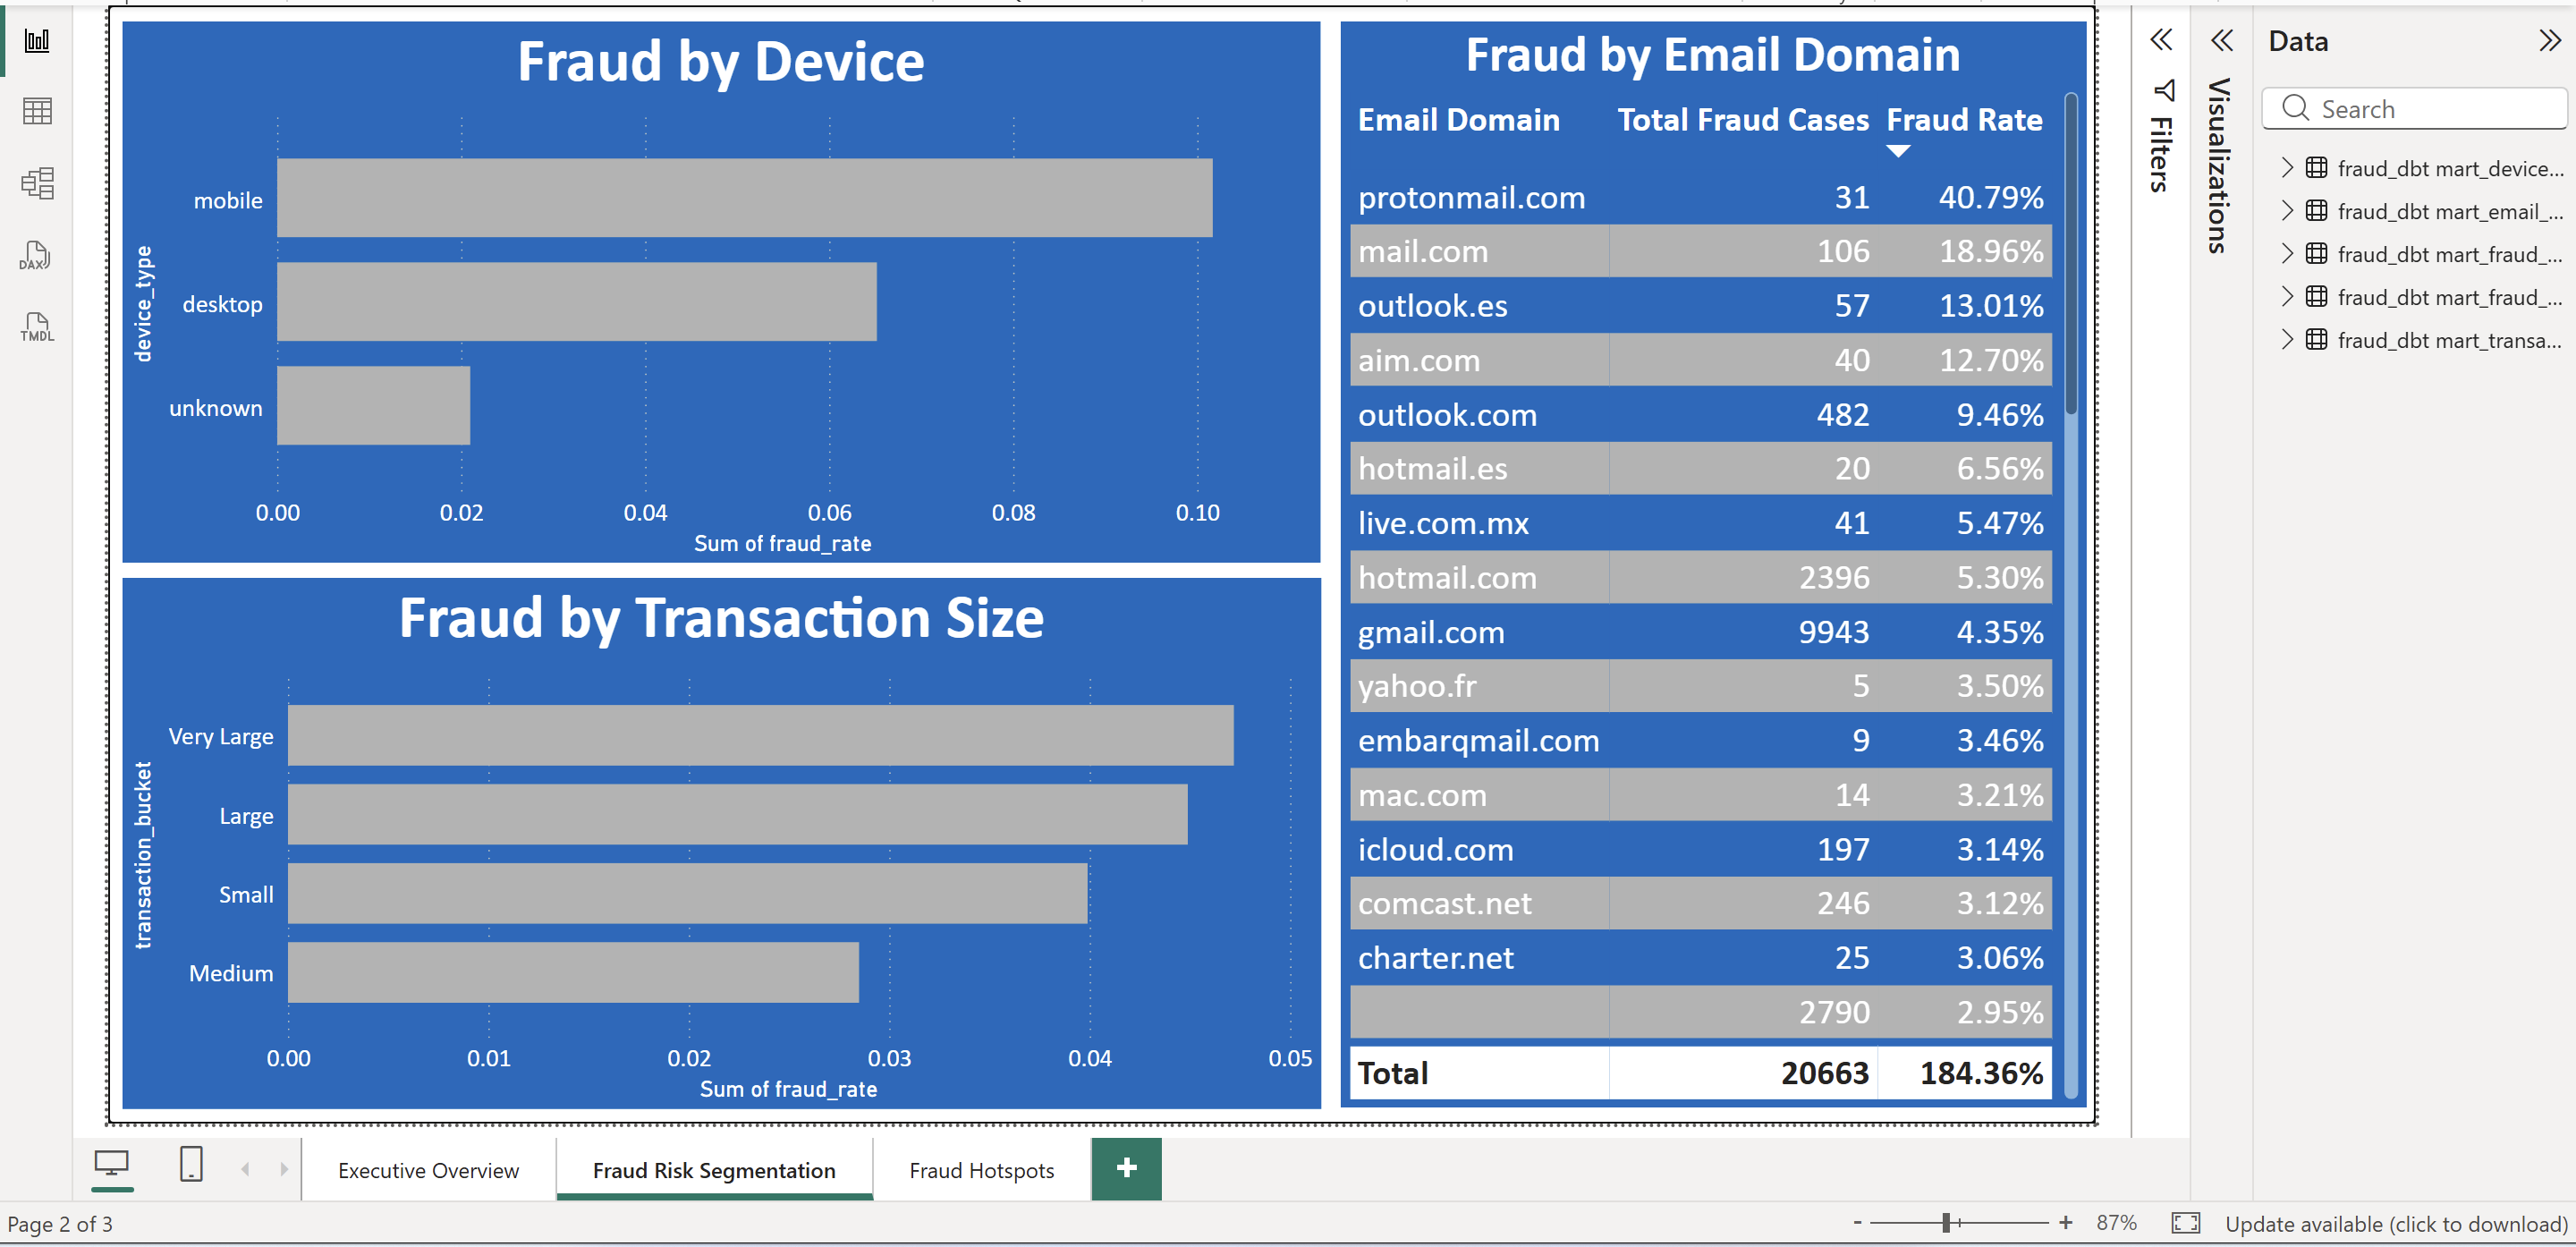

The dashboard page shown, as its layout file describes it:
{"tool":"powerbi","page":{"name":"Fraud Risk Segmentation","canvas":[1280,720],"ordinal":1},"visuals":[{"type":"clusteredBarChart","title":"Fraud by Device","fields":{"Category":["fraud_dbt mart_device_risk.device_type"],"Y":["Sum(fraud_dbt mart_device_risk.fraud_rate)"]},"box":[9.6,10.9,771.3,348.7],"z":0},{"type":"clusteredBarChart","title":"Fraud by Transaction Size","fields":{"Category":["fraud_dbt mart_transaction_buckets.transaction_bucket"],"Y":["Sum(fraud_dbt mart_transaction_buckets.fraud_rate)"]},"box":[9.6,374.7,771.3,335],"z":1000},{"type":"tableEx","title":"Fraud by Email Domain","fields":{"Values":["fraud_dbt mart_email_domain_risk.email_domain","Sum(fraud_dbt mart_email_domain_risk.fraud_cases)","Sum(fraud_dbt mart_email_domain_risk.fraud_rate)"]},"box":[793.2,10.9,480,698.8],"z":2000}]}

Visuals, with their boxes on the page's 1280x720 design canvas (x1, y1, x2, y2). These are canvas units, not pixel positions in the 2576x1247 screenshot, which may show the page scaled, cropped or inside an application window:
"Fraud by Device" clusteredBarChart: bbox(10, 11, 781, 360)
"Fraud by Transaction Size" clusteredBarChart: bbox(10, 375, 781, 710)
"Fraud by Email Domain" tableEx: bbox(793, 11, 1273, 710)
